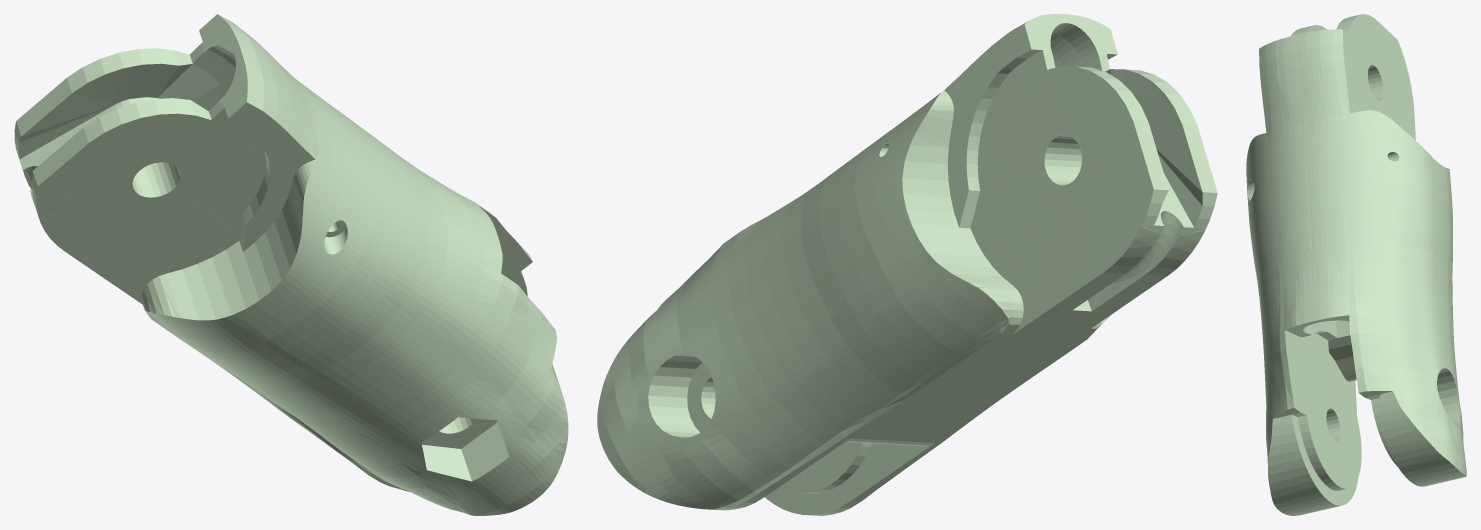
Rendered from i02_leftHand_ThumbMid_visual.obj.full.glb.
The picture shows the model from 3 angles, left to right: view 1: azimuth 30°, elevation 25°; view 2: azimuth 150°, elevation 25°; view 3: azimuth 270°, elevation 25°; orthographic projection. The views are drawn at different scales.
Bounding box in the file's own units: 0.4503 × 0.4356 × 0.2184.
